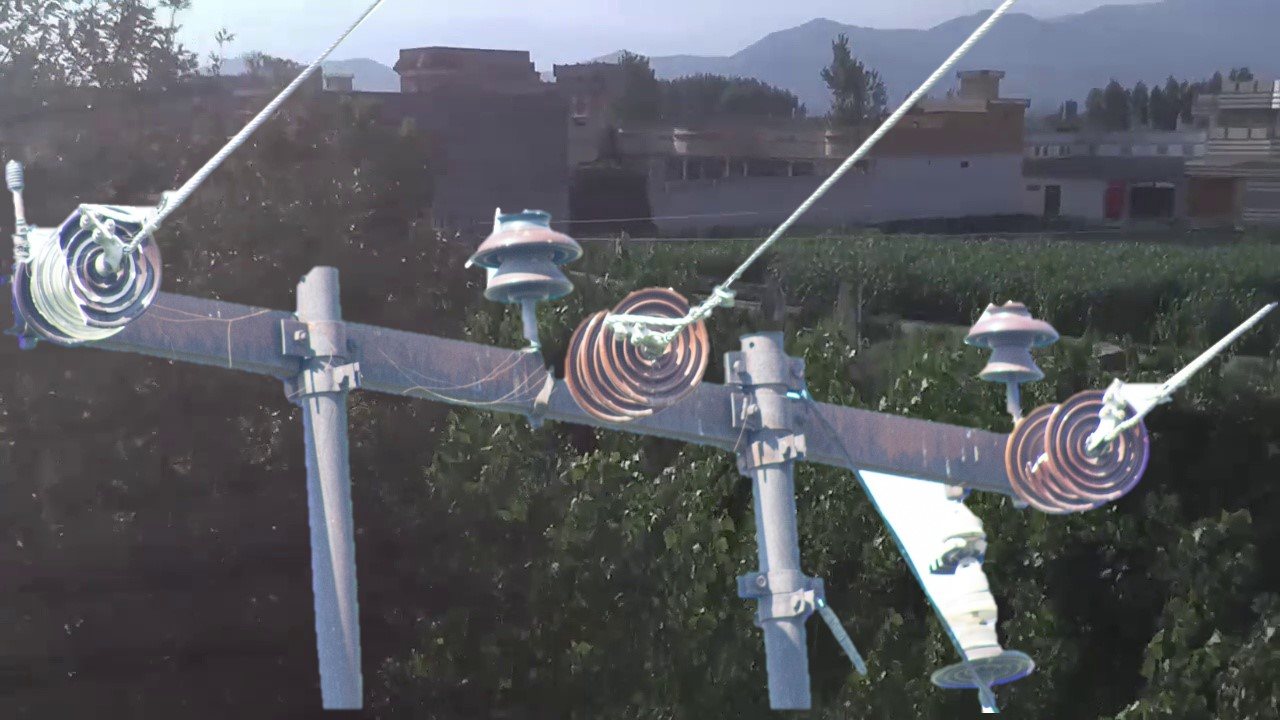defect_disc: (57, 196, 169, 332)
insulator_disc: (598, 277, 713, 410), (1041, 382, 1157, 501)
